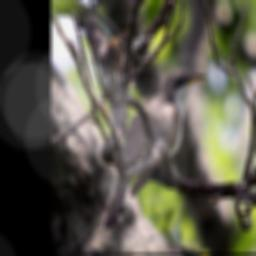Cuckoo: (103, 63, 208, 235)
